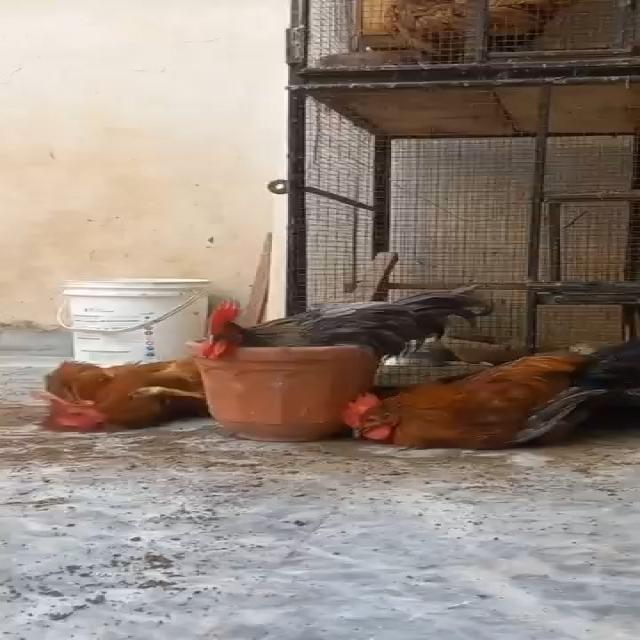stand bath: (341, 339, 640, 451), (188, 266, 497, 372), (28, 336, 205, 433)
